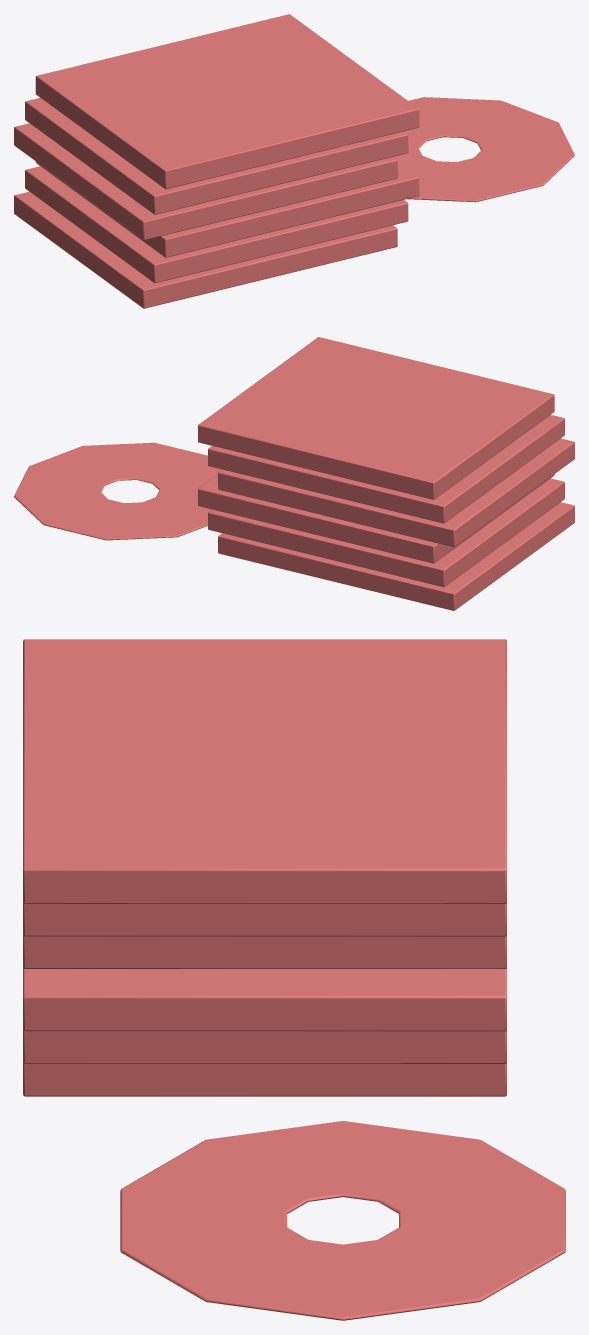
The model's file is DiaVCD_XepChong.glb.
3 views of the same model, one above another, from view 1: azimuth 30°, elevation 25°; view 2: azimuth 150°, elevation 25°; view 3: azimuth 270°, elevation 25° (orthographic). The views are drawn at different scales.
Parts seen in each view (by area): view 1: DiaVCD_XepChong; view 2: DiaVCD_XepChong; view 3: DiaVCD_XepChong.
Boxes of the visible parts, <box> form: DiaVCD_XepChong: <box>14,14,574,308</box>; DiaVCD_XepChong: <box>14,337,574,610</box>; DiaVCD_XepChong: <box>23,639,565,1320</box>.
Size of the model in its own units: 0.2759 by 0.07 by 0.1391.
